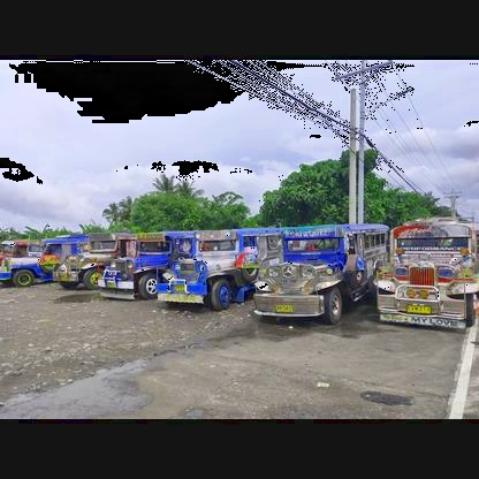jeepney: (379, 214, 479, 328), (252, 218, 359, 324), (171, 230, 258, 314), (96, 230, 168, 301), (54, 230, 122, 290), (4, 234, 65, 288)
